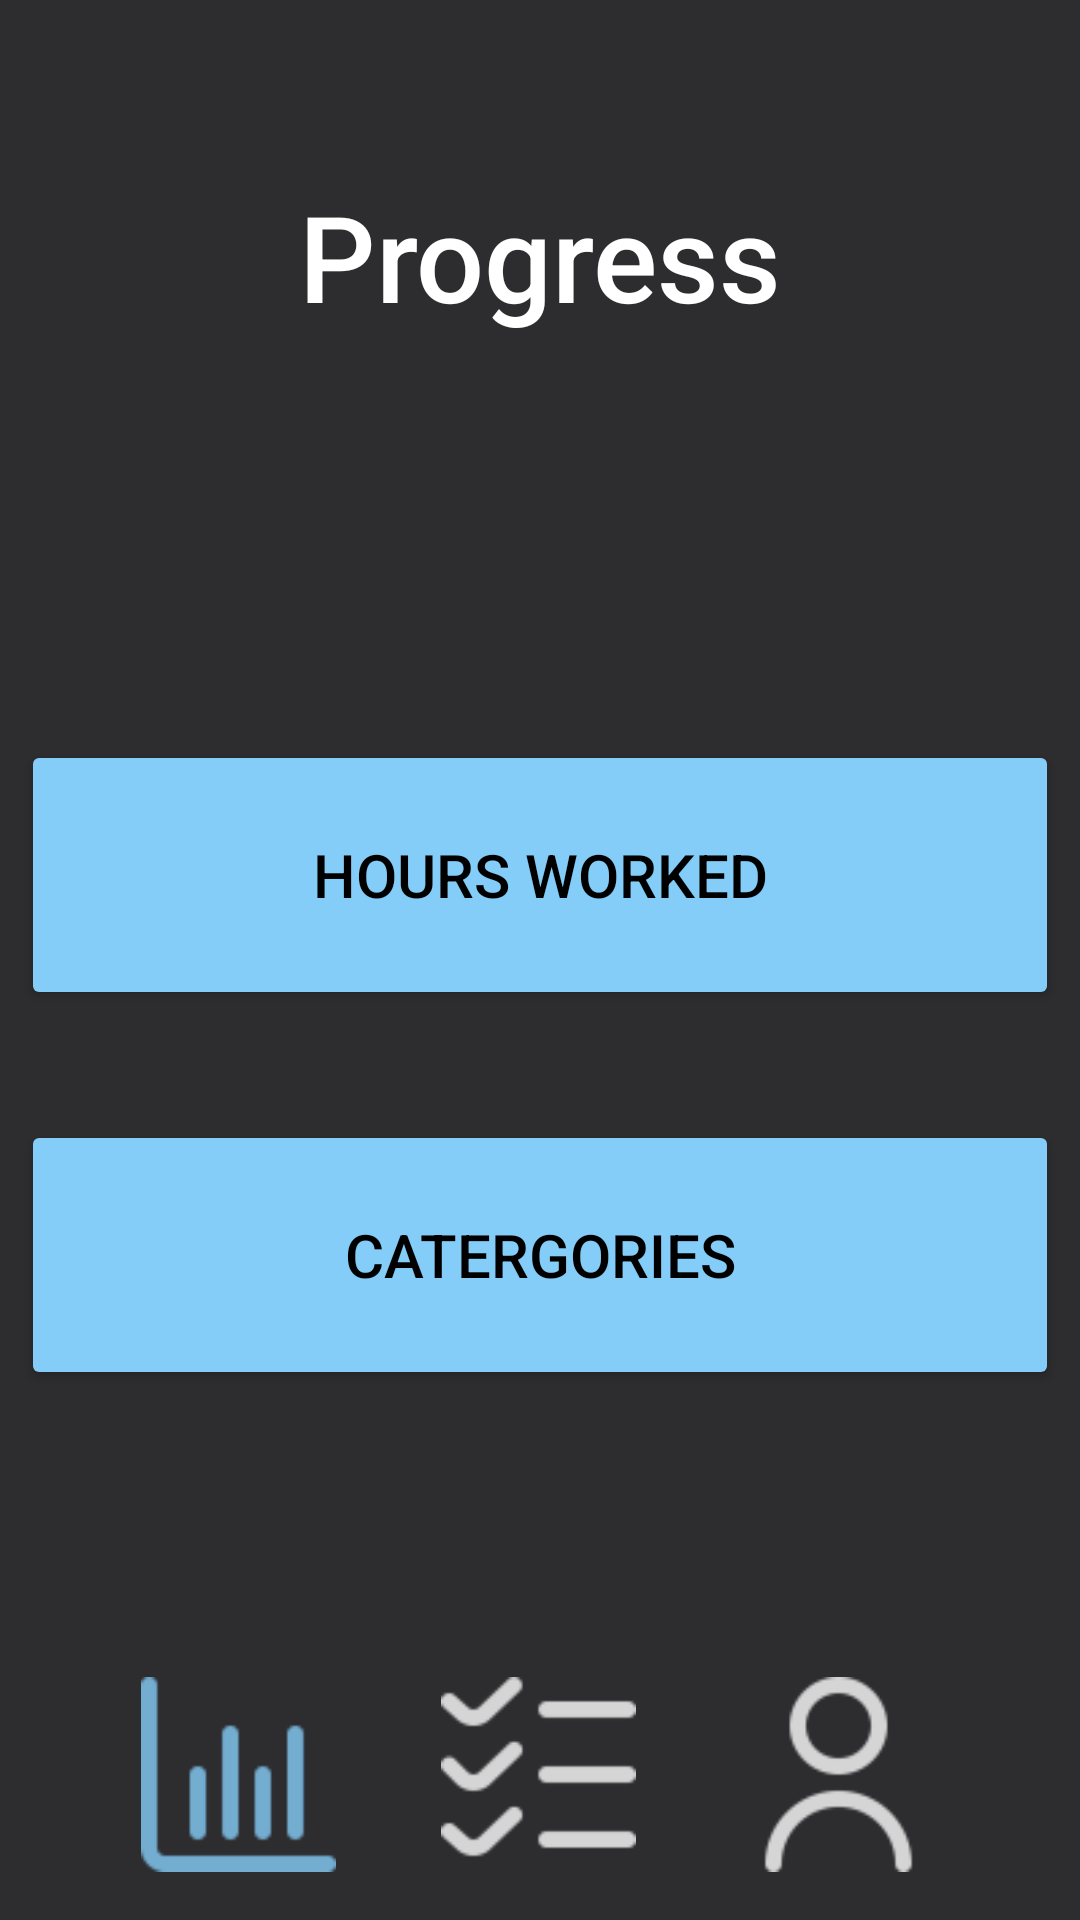

Icons on this 1080px×1920px Android screen, each with the point to tap as [x,y]:
profileblack: [838,1774]
progressblue: [238,1774]
timehseetblack: [538,1767]
